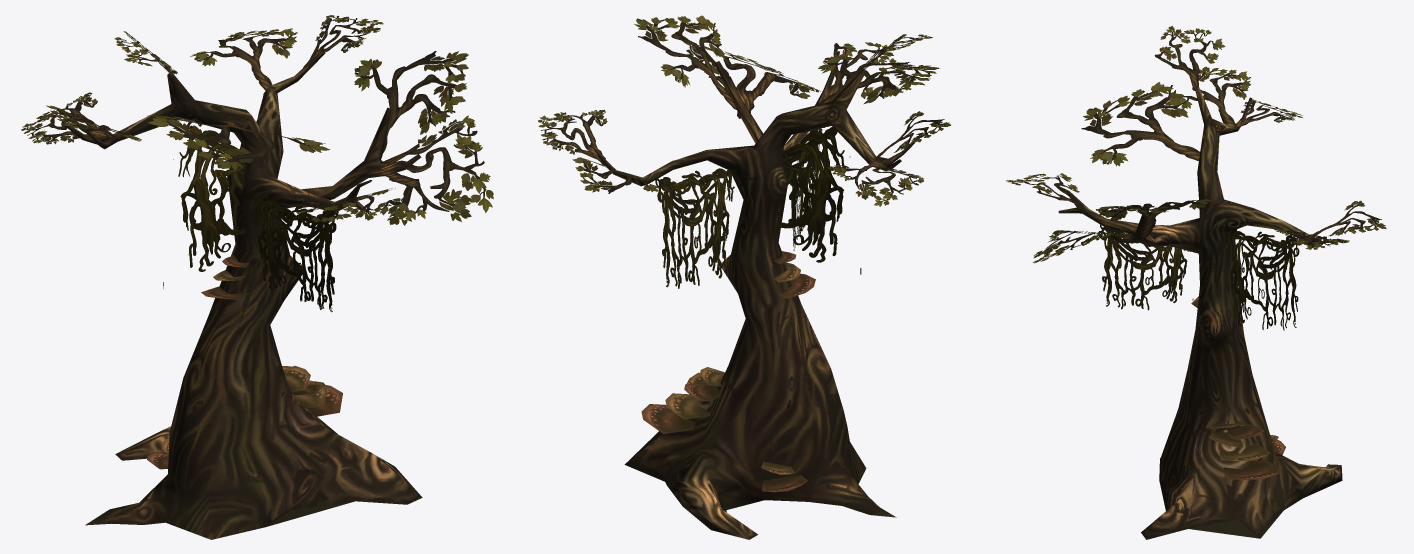
Rendered from mobile_tree_02.fbx.
The picture shows the model from 3 angles, left to right: view 1: azimuth 30°, elevation 25°; view 2: azimuth 150°, elevation 25°; view 3: azimuth 270°, elevation 25°; orthographic projection. The views are drawn at different scales.
Parts seen in each view (by area): view 1: mobile_tree_02, mobile_tree_02_alpha; view 2: mobile_tree_02, mobile_tree_02_alpha; view 3: mobile_tree_02, mobile_tree_02_alpha.
Boxes of the visible parts, bbox=[...] form: mobile_tree_02: bbox=[61, 52, 422, 539]; mobile_tree_02_alpha: bbox=[21, 15, 493, 312]; mobile_tree_02: bbox=[593, 51, 914, 539]; mobile_tree_02_alpha: bbox=[538, 15, 950, 288]; mobile_tree_02: bbox=[1054, 81, 1342, 539]; mobile_tree_02_alpha: bbox=[1006, 26, 1386, 330].
Size of the model in its own units: 919 by 1103 by 1000.
